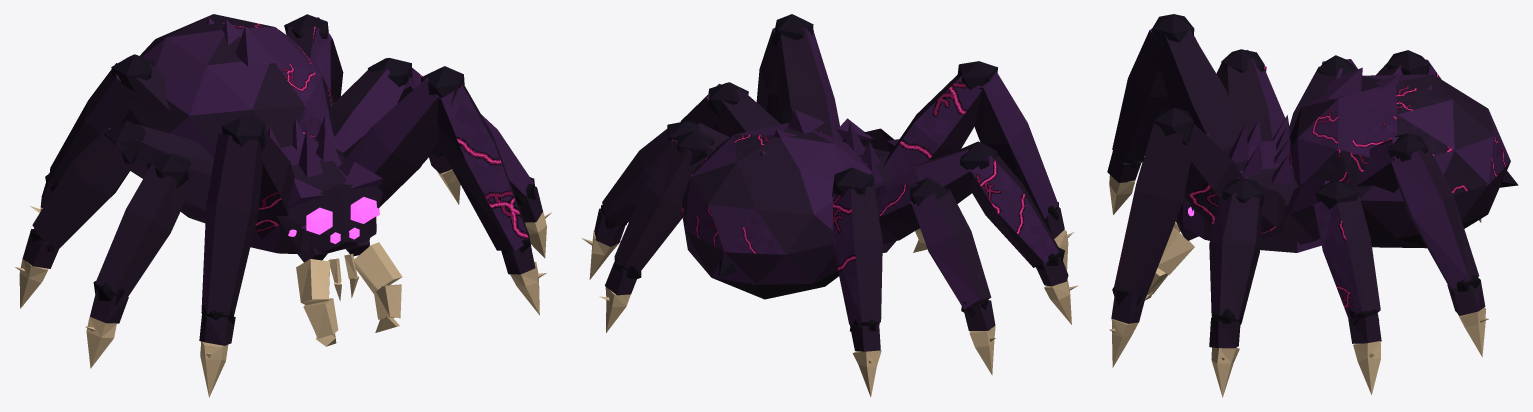
The model's file is pouncer_static.fbx.
3 renders of one model, left to right at view 1: azimuth 30°, elevation 25°; view 2: azimuth 150°, elevation 25°; view 3: azimuth 270°, elevation 25°, orthographic. The views are drawn at different scales.
Visible parts, largest first — view 1: Pouncer_Static; view 2: Pouncer_Static; view 3: Pouncer_Static.
Boxes of the visible parts, x1,y1,x2,y2 form: Pouncer_Static: [15, 14, 551, 397]; Pouncer_Static: [581, 14, 1078, 397]; Pouncer_Static: [1107, 14, 1518, 397].
Bounding box in the file's own units: 8.93 × 4.43 × 7.09.
2 materials, 1 textured.
